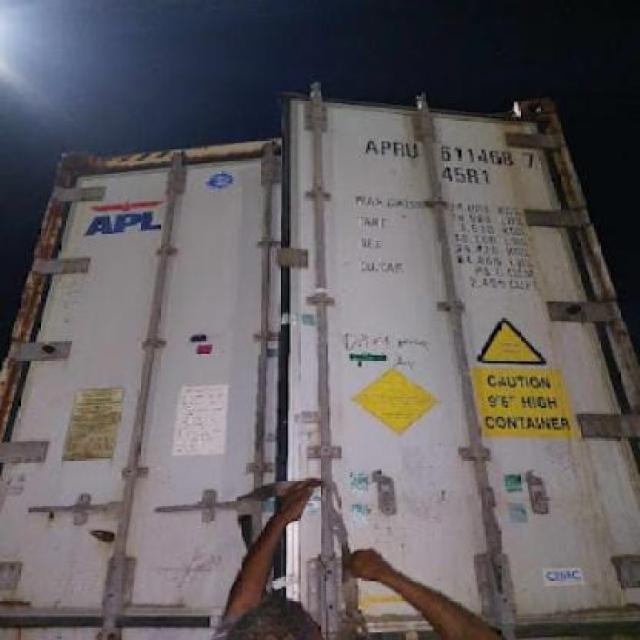ISO: (443, 164, 494, 185)
container_number: (368, 144, 538, 167)
